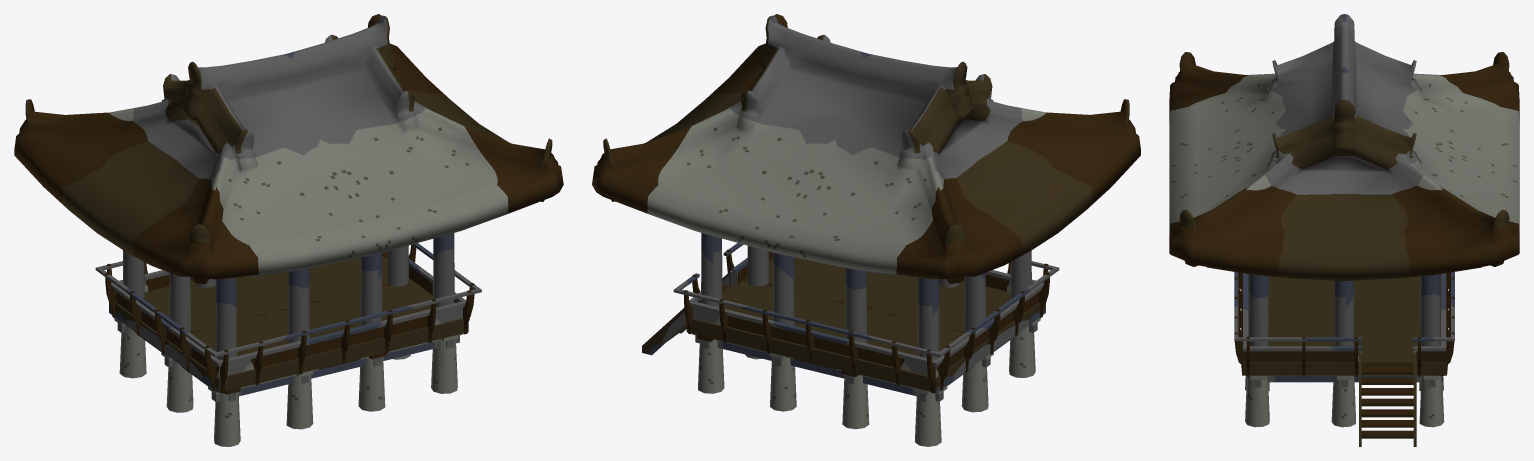
File: lt01arbor.gltf
3 views of the same model, side by side, from view 1: azimuth 30°, elevation 25°; view 2: azimuth 150°, elevation 25°; view 3: azimuth 270°, elevation 25° (orthographic). The views are drawn at different scales.
Visible parts, largest first — view 1: _46; view 2: _46; view 3: _46.
Part boxes in pixels (x1,y1,x2,y2): _46: (14,14,563,446); _46: (592,14,1140,446); _46: (1169,14,1519,446).
Bounding box in the file's own units: 1.14 × 0.9685 × 0.9733.
Materials: 1 (1 with a texture image).
